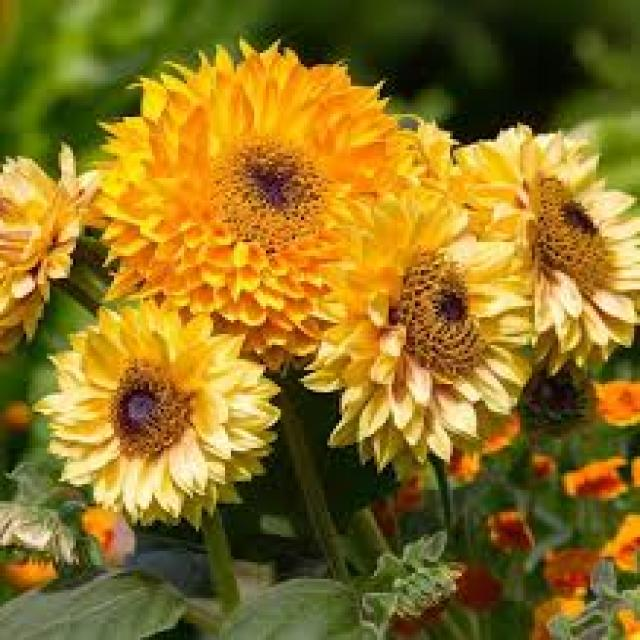sunflower: (90, 29, 452, 387), (301, 183, 541, 486), (31, 291, 284, 537), (426, 121, 640, 373), (0, 135, 113, 363), (69, 501, 144, 574), (2, 545, 74, 601), (560, 448, 628, 506), (547, 548, 610, 602), (443, 562, 509, 612), (599, 506, 640, 584), (586, 376, 640, 434), (471, 399, 523, 457), (529, 598, 599, 640), (481, 511, 540, 555), (385, 472, 438, 516), (0, 395, 29, 473), (440, 442, 483, 481), (526, 450, 552, 483), (617, 609, 640, 640)
